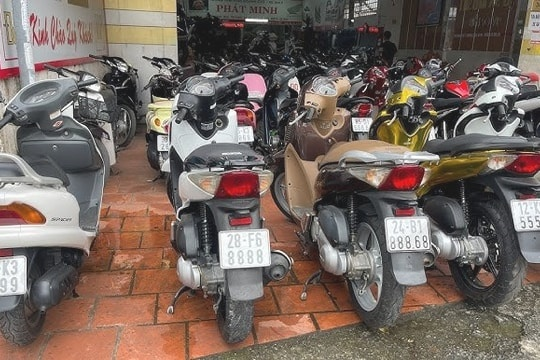Bien-so: (231, 230, 288, 273), (401, 208, 453, 246), (10, 273, 39, 314), (362, 111, 385, 127), (244, 126, 264, 144), (530, 185, 540, 220), (162, 139, 177, 159)
